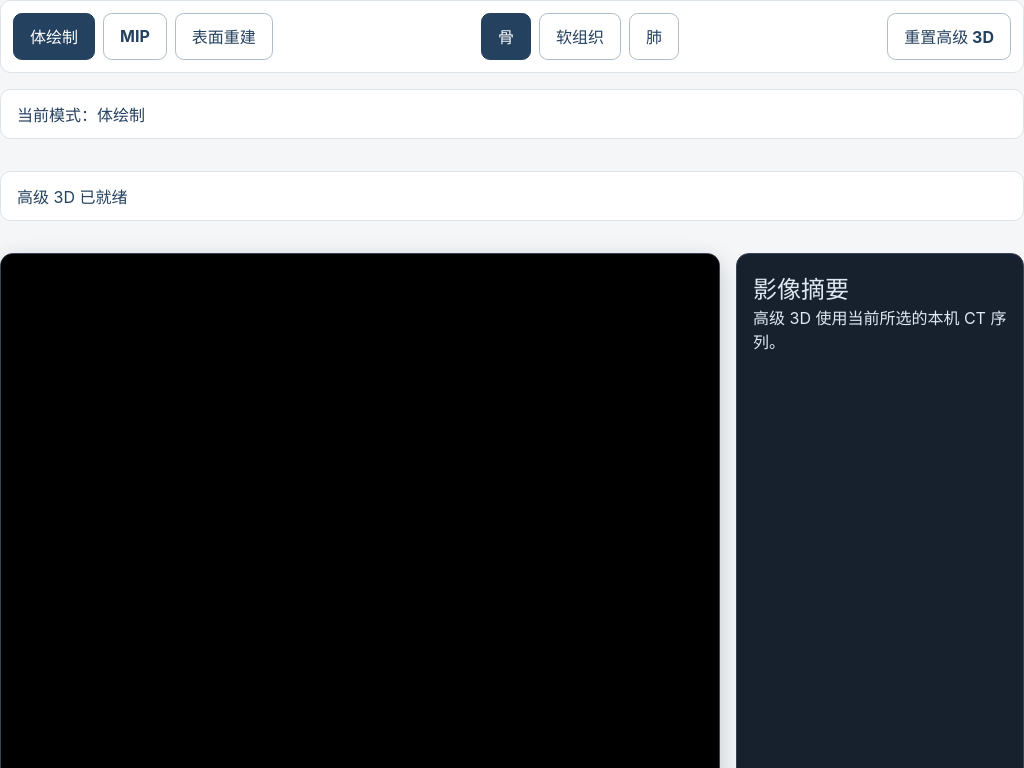
Test: uses the actual surface range and midpoint when 300 HU is unavailable
Click the button "表面重建".
click(224, 36)  # box [175, 13, 273, 60]
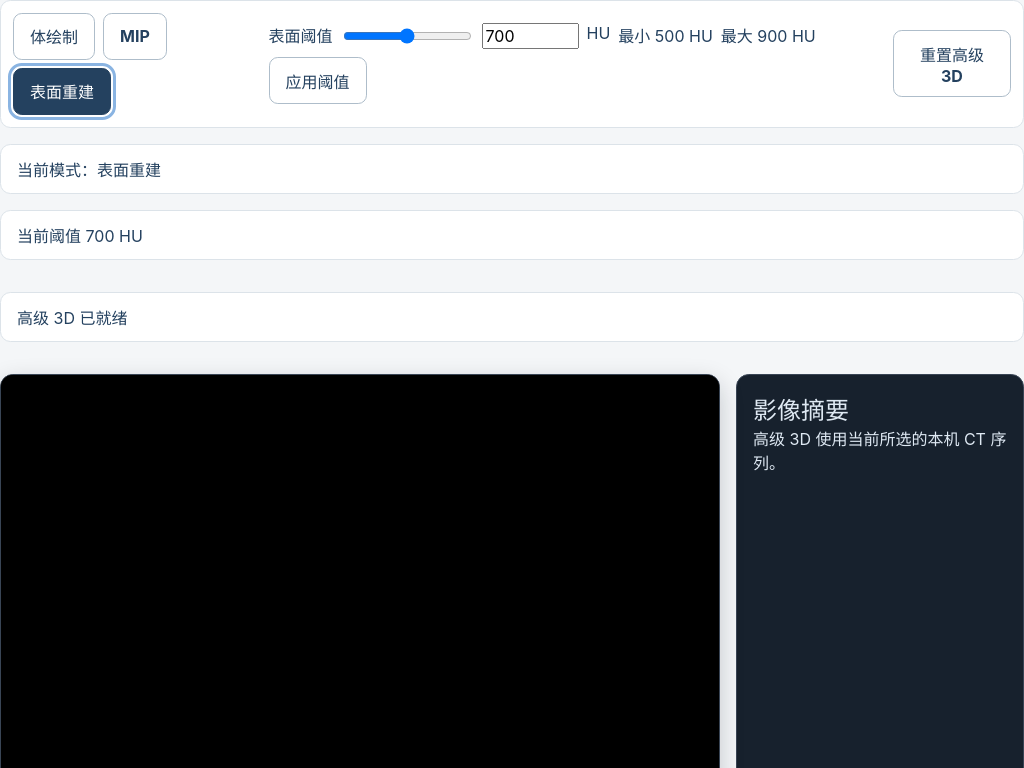
Now the number field named "表面阈值" holds "700", box [482, 23, 579, 49]
Now the text "最小 500 HU" is shown, box [618, 23, 713, 49]
Now the text "最大 900 HU" is shown, box [721, 23, 816, 49]
